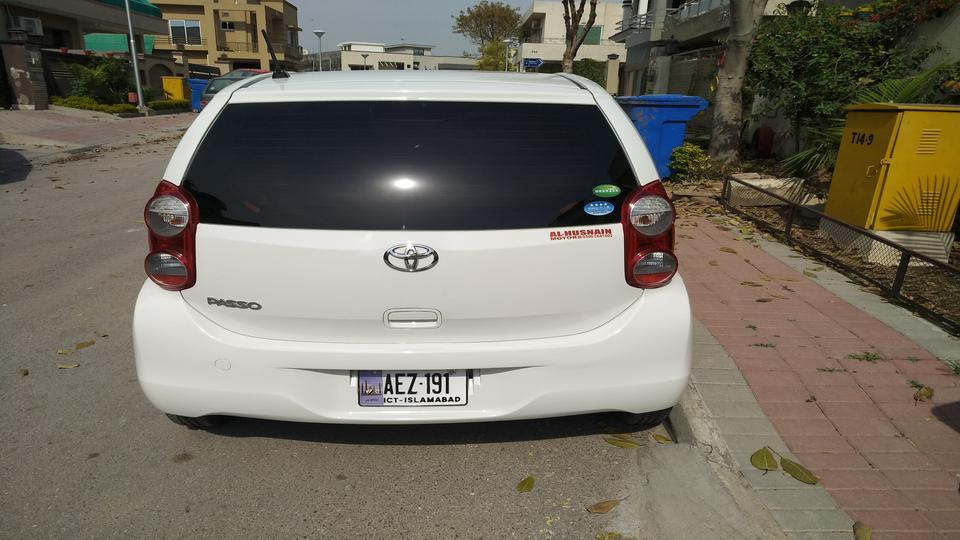NumberPlate: (354, 363, 474, 409)
